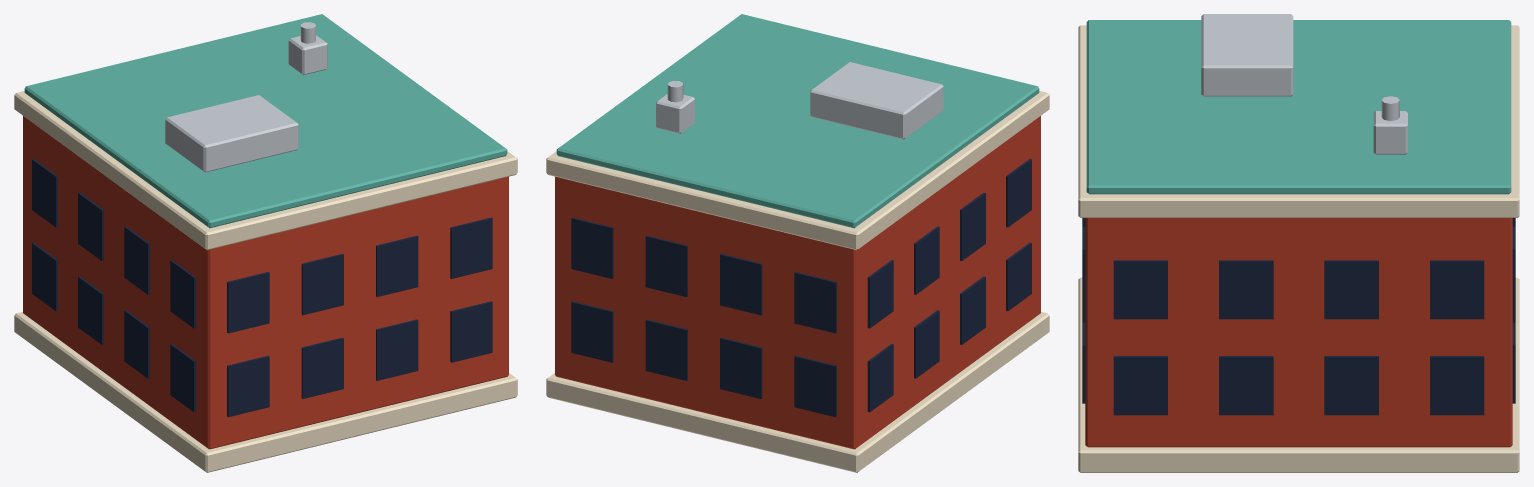
Rendered from building_near_a.glb.
3 views of the same model, side by side, from view 1: azimuth 30°, elevation 25°; view 2: azimuth 150°, elevation 25°; view 3: azimuth 270°, elevation 25° (orthographic). The views are drawn at different scales.
Parts seen in each view (by area): view 1: body, roof, plinth, cornice, roof_unit, win_a_zp_0, win_a_zp_2, win_b_zp_3, win_a_zp_3, win_b_zp_0, win_b_zp_1, win_b_zp_2 (+10 smaller); view 2: body, roof, plinth, cornice, roof_unit, win_a_zm_0, win_a_zm_2, win_b_zm_3, win_a_zm_3, win_b_zm_0, win_b_zm_1, win_b_zm_2 (+10 smaller); view 3: body, roof, cornice, plinth, roof_unit, win_a_xp_1, win_a_xp_2, win_b_xp_1, win_b_xp_2, win_a_xp_0, win_a_xp_3, win_b_xp_0 (+2 smaller).
Part boxes in pixels (bbox=[...]): body: bbox=[23, 116, 508, 449]; roof: bbox=[24, 14, 507, 228]; plinth: bbox=[14, 312, 517, 472]; cornice: bbox=[14, 91, 517, 250]; roof_unit: bbox=[165, 95, 298, 172]; win_a_zp_0: bbox=[227, 355, 269, 417]; win_a_zp_2: bbox=[376, 319, 418, 380]; win_b_zp_3: bbox=[450, 217, 492, 278]; win_a_zp_3: bbox=[450, 301, 492, 362]; win_b_zp_0: bbox=[227, 272, 269, 333]; win_b_zp_1: bbox=[301, 253, 343, 315]; win_b_zp_2: bbox=[376, 235, 418, 296]; body: bbox=[555, 116, 1040, 449]; roof: bbox=[556, 14, 1039, 228]; plinth: bbox=[546, 312, 1049, 472]; cornice: bbox=[546, 91, 1049, 250]; roof_unit: bbox=[810, 62, 943, 139]; win_a_zm_0: bbox=[794, 355, 836, 417]; win_a_zm_2: bbox=[645, 319, 687, 380]; win_b_zm_3: bbox=[571, 217, 613, 278]; win_a_zm_3: bbox=[571, 301, 613, 362]; win_b_zm_0: bbox=[794, 272, 836, 333]; win_b_zm_1: bbox=[720, 253, 762, 315]; win_b_zm_2: bbox=[645, 235, 687, 296]; body: bbox=[1085, 218, 1512, 447]; roof: bbox=[1086, 20, 1511, 194]; cornice: bbox=[1078, 25, 1519, 217]; plinth: bbox=[1078, 277, 1519, 472]; roof_unit: bbox=[1201, 14, 1293, 96]; win_a_xp_1: bbox=[1324, 356, 1378, 415]; win_a_xp_2: bbox=[1219, 356, 1273, 415]; win_b_xp_1: bbox=[1324, 260, 1378, 319]; win_b_xp_2: bbox=[1219, 260, 1273, 319]; win_a_xp_0: bbox=[1430, 356, 1484, 415]; win_a_xp_3: bbox=[1113, 356, 1167, 415]; win_b_xp_0: bbox=[1430, 260, 1484, 319].
Size of the model in its own units: 7.2 by 6.4 by 7.7.
